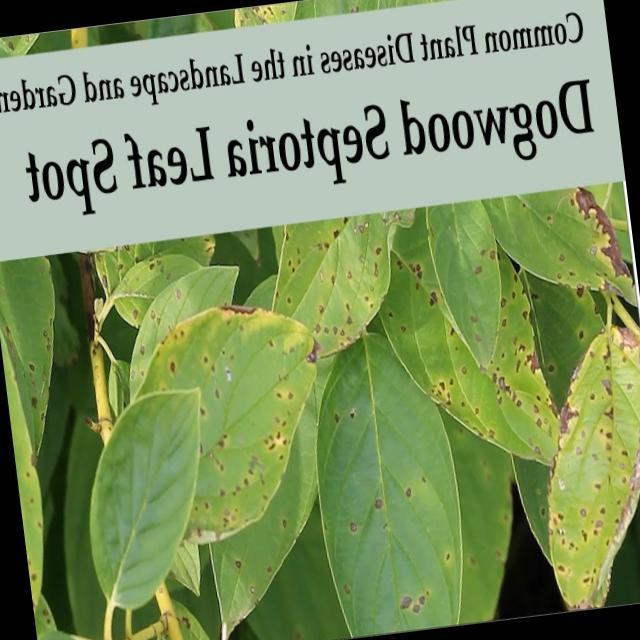Septoria: (140, 306, 338, 547), (396, 241, 560, 451), (524, 321, 640, 613), (331, 438, 466, 638), (268, 212, 408, 362), (528, 177, 638, 299), (100, 234, 228, 328)
